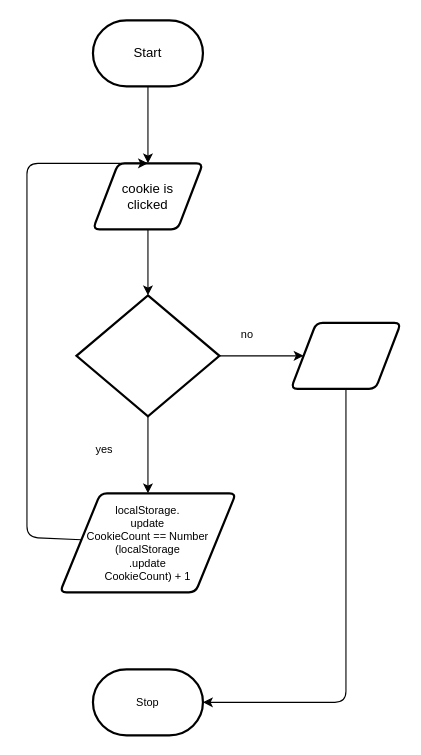
Image size: 421x755. Some labels were removed from this diagram. The shapes that lost their labels are listed below. From the top down, each one's box as (x1, y1, x2, y2) in pixels, then its label:
(75, 294, 220, 417): if localStorage. update CookieCount
(289, 321, 402, 389): output answer
